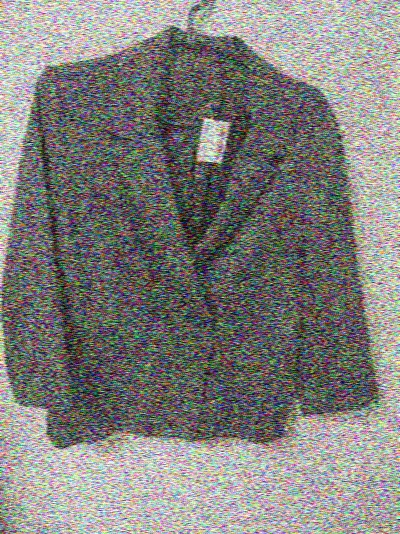Blazer: (9, 45, 390, 464)
